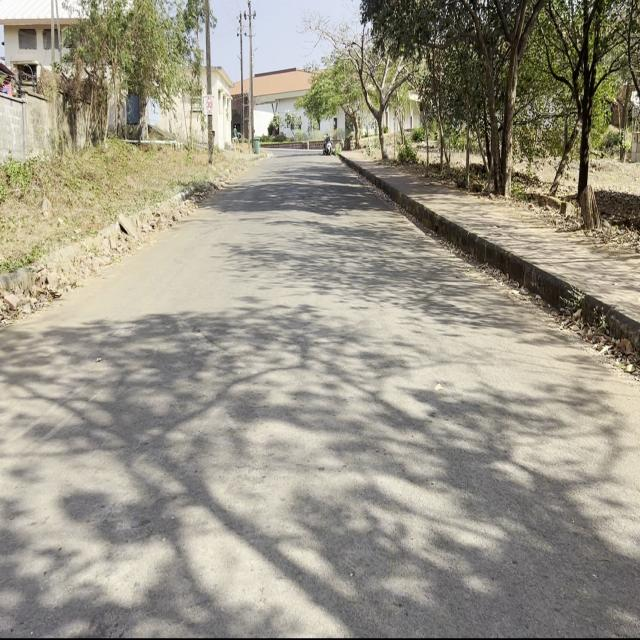Road: (5, 154, 634, 634)
